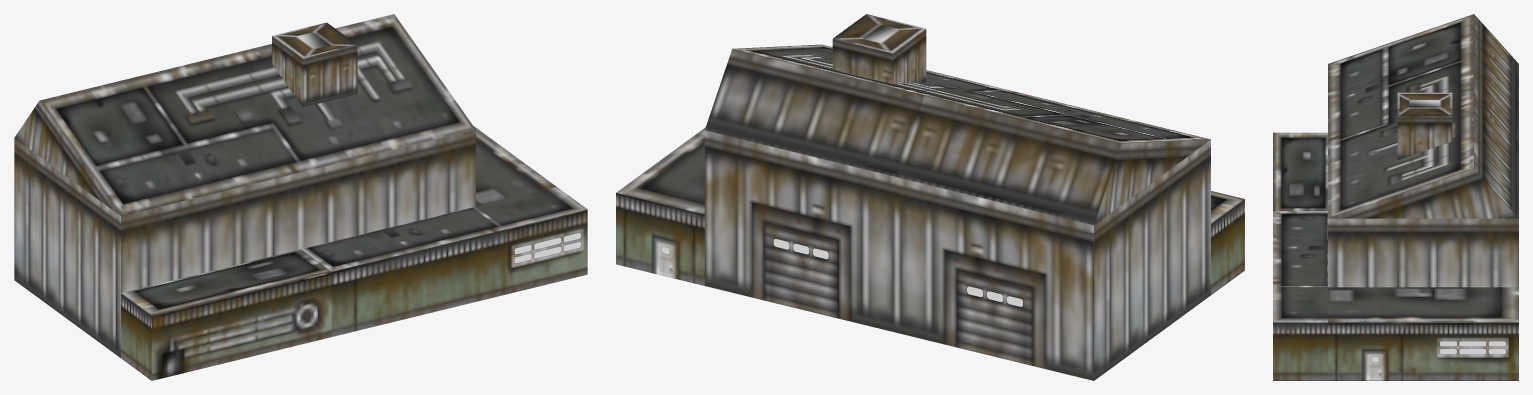
Rendered from factorylg.glb.
3 renders of one model, left to right at view 1: azimuth 30°, elevation 25°; view 2: azimuth 150°, elevation 25°; view 3: azimuth 270°, elevation 25°, orthographic. The views are drawn at different scales.
Visible parts, largest first — view 1: Box01, LitWin_FactoryLg; view 2: Box01, LitWin_FactoryLg; view 3: Box01, LitWin_FactoryLg.
Part boxes in pixels (box(x1,y1,x2,y2)): Box01: box(14, 14, 587, 380); LitWin_FactoryLg: box(514, 233, 580, 263); Box01: box(616, 14, 1244, 380); LitWin_FactoryLg: box(662, 239, 1022, 306); Box01: box(1273, 14, 1518, 380); LitWin_FactoryLg: box(1371, 341, 1505, 362).
Size of the model in its own units: 29.52 by 14.11 by 16.15.
2 materials, 2 textured.
